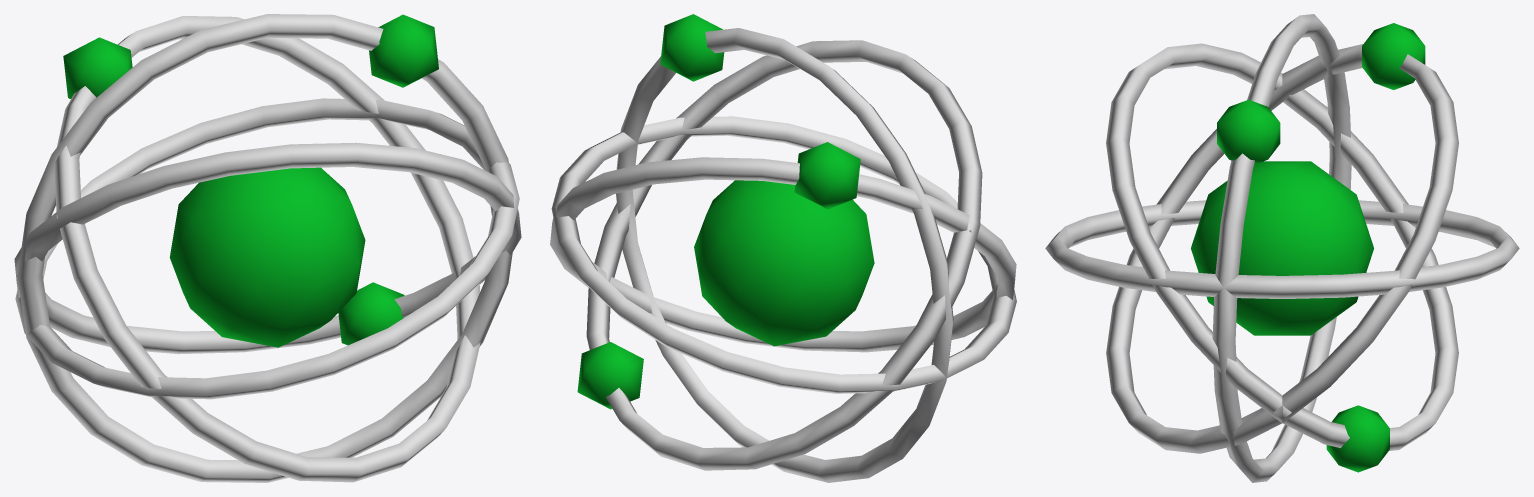
File: AtomBall.fbx
3 views of the same model, side by side, from view 1: azimuth 30°, elevation 25°; view 2: azimuth 150°, elevation 25°; view 3: azimuth 270°, elevation 25° (orthographic). The views are drawn at different scales.
Parts seen in each view (by area): view 1: AtomBallLines, AtomBallSpheres; view 2: AtomBallLines, AtomBallSpheres; view 3: AtomBallLines, AtomBallSpheres.
Part boxes in pixels (bbox=[...]): AtomBallLines: bbox=[14, 14, 521, 482]; AtomBallSpheres: bbox=[63, 14, 438, 347]; AtomBallLines: bbox=[550, 28, 1016, 482]; AtomBallSpheres: bbox=[577, 14, 874, 409]; AtomBallLines: bbox=[1045, 14, 1519, 482]; AtomBallSpheres: bbox=[1191, 23, 1425, 472].
Size of the model in its own units: 0.9658 by 0.9994 by 0.9995.
